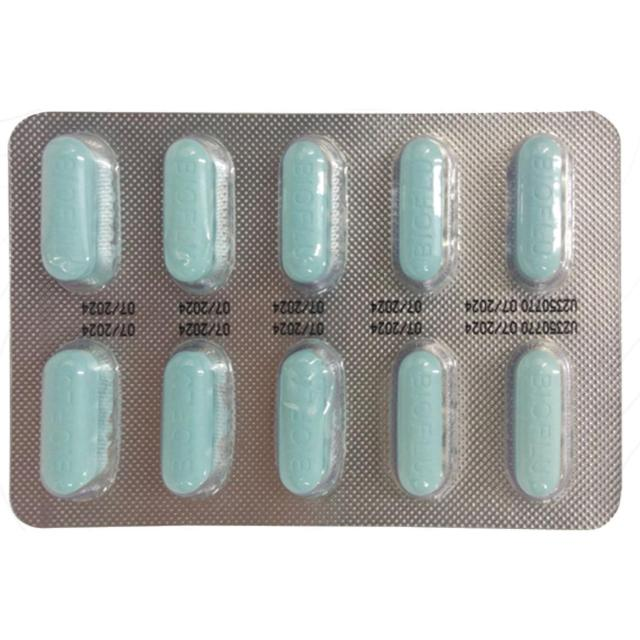blister: (6, 108, 624, 531)
